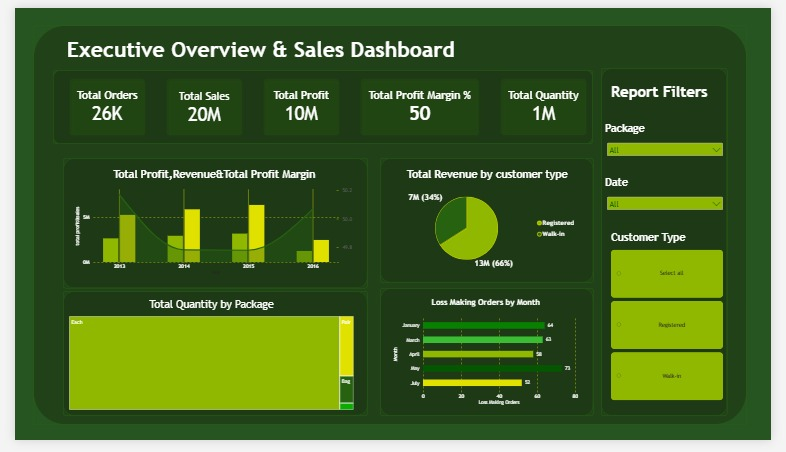

The dashboard page shown, as its layout file describes it:
{"tool":"powerbi","page":{"name":"Home","canvas":[1890,1080],"ordinal":0},"visuals":[{"type":"shape","box":[45,42.5,1785,1000],"z":0},{"type":"shape","box":[1466,150,316,870],"z":1000,"group":"g1"},{"type":"shape","box":[95,155,1350,185],"z":1000},{"type":"textbox","box":[97.5,72.5,1016,82],"z":2000},{"type":"cardVisual","fields":{"Data":["measures_.Total Profit"]},"box":[605.8,160.5,221.6,175.2],"z":3000},{"type":"cardVisual","fields":{"Data":["measures_.Total Quantity"]},"box":[1198.6,161,247.1,174.3],"z":4000},{"type":"textbox","box":[1490,188,294,70],"z":4005,"group":"g1"},{"type":"cardVisual","fields":{"Data":["measures_.Total Profit Margin %"]},"box":[848.7,160.3,328.6,175.7],"z":5000},{"type":"cardVisual","fields":{"Data":["measures_.Total SalesRevenue"]},"box":[362.9,160.5,221.6,175.2],"z":6000},{"type":"cardVisual","fields":{"Data":["measures_.Total Orders"]},"box":[120,160.5,221.6,175.2],"z":7000},{"type":"group","id":"g1","title":"Group 1","box":[1466,150,318,870],"z":8000},{"type":"slicer","title":"Package","fields":{"Values":["fact_sale_cleaned.Package"]},"box":[1476,284,300,116],"z":9000},{"type":"advancedSlicerVisual","fields":{"Values":["fact_sale_cleaned.Customer Type"]},"box":[1490,558,280,424],"z":10000},{"type":"shape","box":[120,374,762,326],"z":11000},{"type":"shape","box":[912,374,534,312],"z":12000},{"type":"shape","box":[912,700,534,320],"z":13000},{"type":"lineClusteredColumnComboChart","title":"Total Profit,Revenue&Total Profit Margin","fields":{"Category":["fact_sale_cleaned.Delivery Date Key.Variation.Date Hierarchy.Year"],"Y":["measures_.Total Profit","measures_.Total SalesRevenue"],"Y2":["measures_.Total Profit Margin %"]},"box":[136,386,726,300],"z":14000},{"type":"shape","box":[120,708,762,312],"z":15000},{"type":"pieChart","title":"Total Revenue by customer type","fields":{"Category":["fact_sale_cleaned.Customer Type"],"Y":["measures_.Total SalesRevenue"]},"box":[938,386,486,286],"z":16000},{"type":"treemap","fields":{"Group":["fact_sale_cleaned.Package"],"Values":["measures_.Total Quantity"]},"box":[120,710,742,310],"z":17000},{"type":"clusteredBarChart","title":"Loss Making Orders by Month","fields":{"Category":["fact_sale_cleaned.Delivery Date Key.Variation.Date Hierarchy.Month"],"Y":["measures_.Loss Making Orders"]},"box":[930,710,494,300],"z":18000},{"type":"slicer","title":"Date","fields":{"Values":["fact_sale_cleaned.Delivery Date Key.Variation.Date Hierarchy.Year","fact_sale_cleaned.Delivery Date Key.Variation.Date Hierarchy.Month"]},"box":[1476,420,300,116],"z":19000}]}

Visuals, with their boxes in screenshot pixels (x1, y1, x2, y2), scaled from the page's 1890x1080 canvas onto the 786x452 screenshot:
shape: <bbox>19, 18, 761, 436</bbox>
shape: <bbox>610, 63, 741, 427</bbox>
shape: <bbox>40, 65, 601, 142</bbox>
textbox: <bbox>41, 30, 463, 65</bbox>
cardVisual - measures_.Total Profit: <bbox>252, 67, 344, 140</bbox>
cardVisual - measures_.Total Quantity: <bbox>498, 67, 601, 140</bbox>
textbox: <bbox>620, 79, 742, 108</bbox>
cardVisual - measures_.Total Profit Margin %: <bbox>353, 67, 490, 141</bbox>
cardVisual - measures_.Total SalesRevenue: <bbox>151, 67, 243, 140</bbox>
cardVisual - measures_.Total Orders: <bbox>50, 67, 142, 140</bbox>
"Group 1" group: <bbox>610, 63, 742, 427</bbox>
"Package" slicer: <bbox>614, 119, 739, 167</bbox>
advancedSlicerVisual - fact_sale_cleaned.Customer Type: <bbox>620, 234, 736, 411</bbox>
shape: <bbox>50, 157, 367, 293</bbox>
shape: <bbox>379, 157, 601, 287</bbox>
shape: <bbox>379, 293, 601, 427</bbox>
"Total Profit,Revenue&Total Profit Margin" lineClusteredColumnComboChart: <bbox>57, 162, 358, 287</bbox>
shape: <bbox>50, 296, 367, 427</bbox>
"Total Revenue by customer type" pieChart: <bbox>390, 162, 592, 281</bbox>
treemap - fact_sale_cleaned.Package x measures_.Total Quantity: <bbox>50, 297, 358, 427</bbox>
"Loss Making Orders by Month" clusteredBarChart: <bbox>387, 297, 592, 423</bbox>
"Date" slicer: <bbox>614, 176, 739, 224</bbox>
